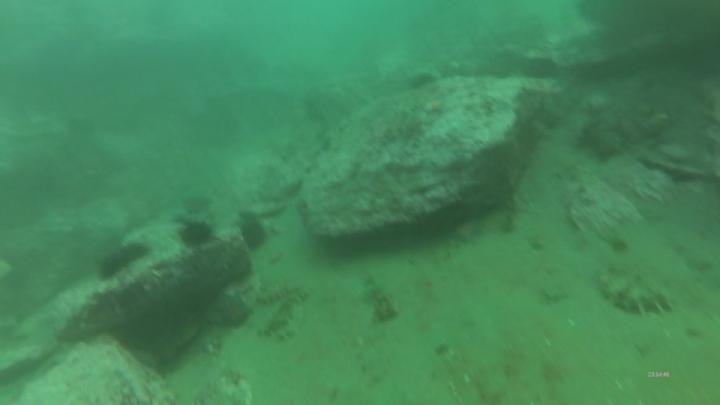echinus: (177, 218, 216, 252), (240, 216, 271, 252), (95, 249, 127, 282), (118, 241, 150, 262)
holothurian: (594, 265, 680, 315), (253, 284, 308, 304)
starfish: (214, 288, 253, 329)
